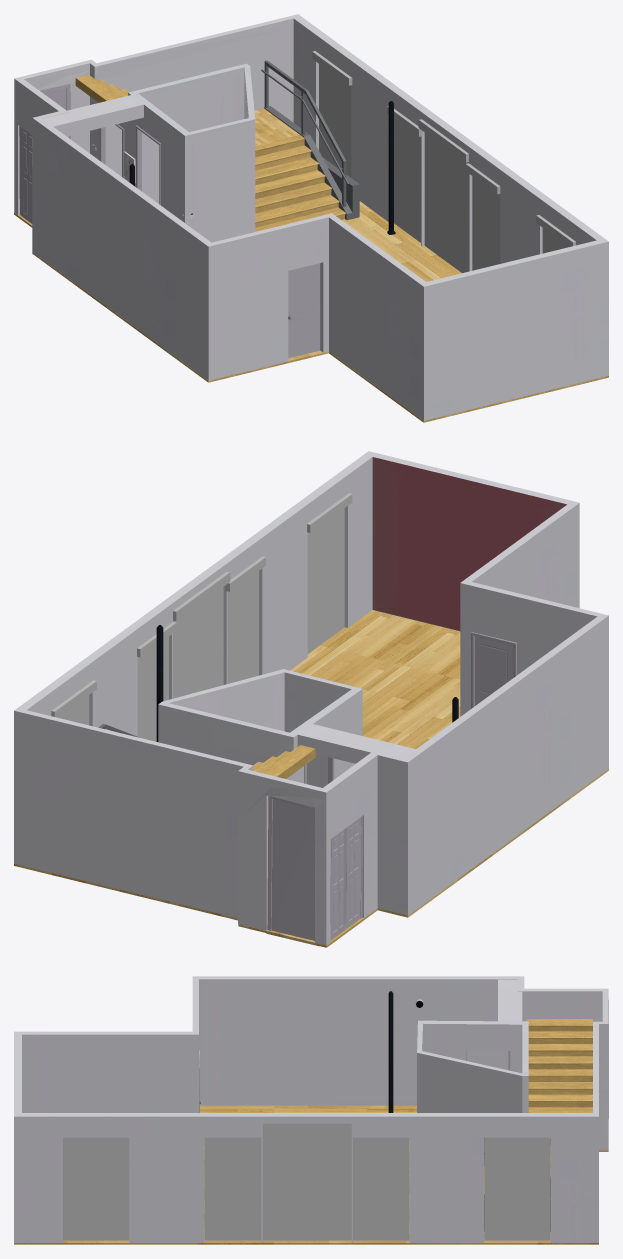
Rendered from Stage_v3_sc3_staging.glb.
3 views of the same model, one above another, from view 1: azimuth 30°, elevation 25°; view 2: azimuth 150°, elevation 25°; view 3: azimuth 270°, elevation 25° (orthographic). The views are drawn at different scales.
Visible parts, largest first — view 1: frl_apartment_wall_arch, frl_apartment_blinds.001, frl_apartment_stair.001, frl_apartment_floor.001, frl_apartment_door_01.001, frl_apartment_door_05.001, frl_apartment_pipe.001, frl_apartment_door_part.005; view 2: frl_apartment_wall_arch, frl_apartment_blinds.001, frl_apartment_floor.001, frl_apartment_door_04.001, frl_apartment_door_01.001, frl_apartment_door_05.001, frl_apartment_door_06.001, frl_apartment_stair.001, frl_apartment_door_part.003, frl_apartment_pipe.001; view 3: frl_apartment_wall_arch, frl_apartment_blinds.001, frl_apartment_stair.001, frl_apartment_floor.001, frl_apartment_pipe.001.
Boxes of the visible parts, bbox=[...] form: frl_apartment_wall_arch: bbox=[14, 14, 608, 420]; frl_apartment_blinds.001: bbox=[312, 51, 575, 273]; frl_apartment_stair.001: bbox=[75, 60, 359, 231]; frl_apartment_floor.001: bbox=[14, 201, 608, 422]; frl_apartment_door_01.001: bbox=[288, 263, 319, 358]; frl_apartment_door_05.001: bbox=[21, 127, 32, 223]; frl_apartment_pipe.001: bbox=[129, 101, 395, 234]; frl_apartment_door_part.005: bbox=[136, 125, 160, 205]; frl_apartment_wall_arch: bbox=[14, 451, 608, 945]; frl_apartment_blinds.001: bbox=[51, 493, 352, 741]; frl_apartment_floor.001: bbox=[14, 610, 608, 947]; frl_apartment_door_04.001: bbox=[271, 799, 314, 940]; frl_apartment_door_01.001: bbox=[474, 636, 513, 705]; frl_apartment_door_05.001: bbox=[330, 828, 346, 939]; frl_apartment_door_06.001: bbox=[346, 817, 361, 928]; frl_apartment_stair.001: bbox=[98, 724, 315, 778]; frl_apartment_door_part.003: bbox=[266, 796, 318, 946]; frl_apartment_pipe.001: bbox=[156, 625, 458, 741]; frl_apartment_wall_arch: bbox=[14, 976, 608, 1242]; frl_apartment_blinds.001: bbox=[63, 1123, 550, 1240]; frl_apartment_stair.001: bbox=[484, 1019, 592, 1231]; frl_apartment_floor.001: bbox=[14, 1105, 608, 1244]; frl_apartment_pipe.001: bbox=[388, 991, 393, 1112].
Bounding box in the file's own units: 7.26 × 3.13 × 13.
Materials: 10 (9 with a texture image).
